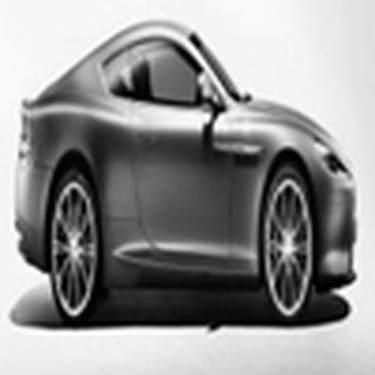car: (1, 18, 360, 329)
